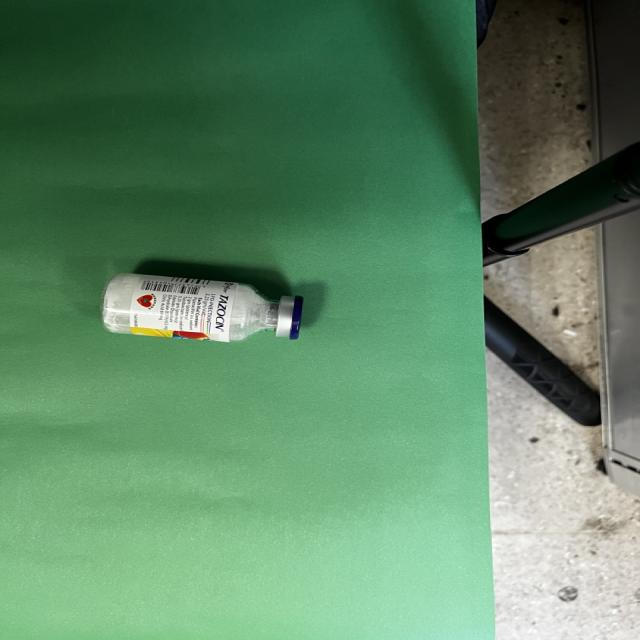Vials: (101, 272, 303, 342)
